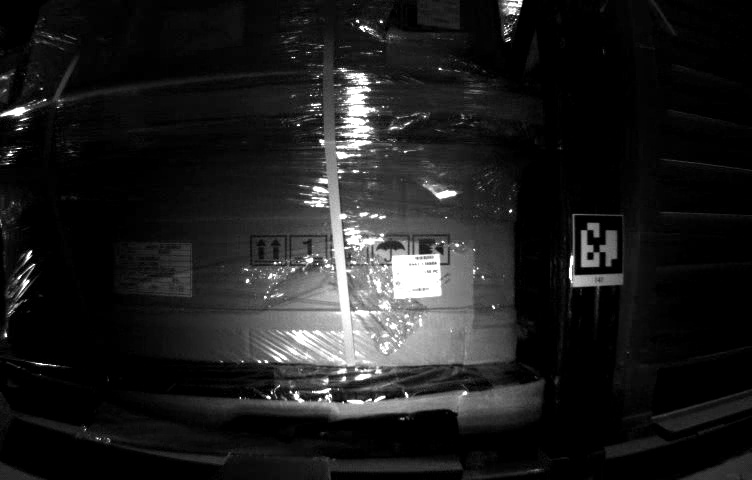True Barcode: (391, 252, 443, 296)
